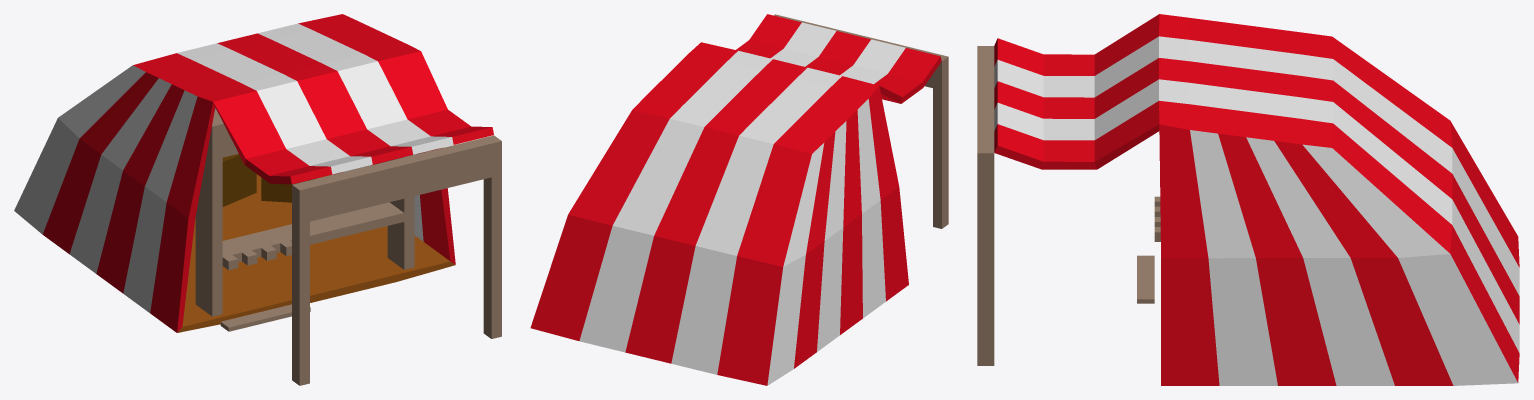
File: shop.fbx
3 views of the same model, side by side, from view 1: azimuth 30°, elevation 25°; view 2: azimuth 150°, elevation 25°; view 3: azimuth 270°, elevation 25° (orthographic). The views are drawn at different scales.
Visible parts, largest first — view 1: Cube.002, Cube.003, Cube.007; view 2: Cube.002, Cube.003; view 3: Cube.002, Cube.003.
Boxes of the visible parts, <box> form: Cube.002: <box>14,14,493,332</box>; Cube.003: <box>195,109,501,385</box>; Cube.007: <box>222,154,316,206</box>; Cube.002: <box>530,14,941,385</box>; Cube.003: <box>774,14,948,228</box>; Cube.002: <box>994,14,1519,385</box>; Cube.003: <box>977,46,1160,365</box>.
Bounding box in the file's own units: 1987 × 1540 × 3076.
